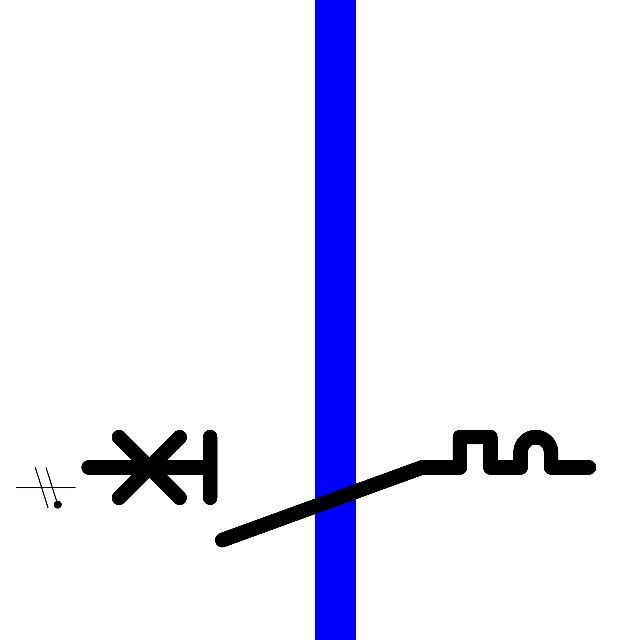interruptor_termomagnetico: (75, 424, 601, 553)
